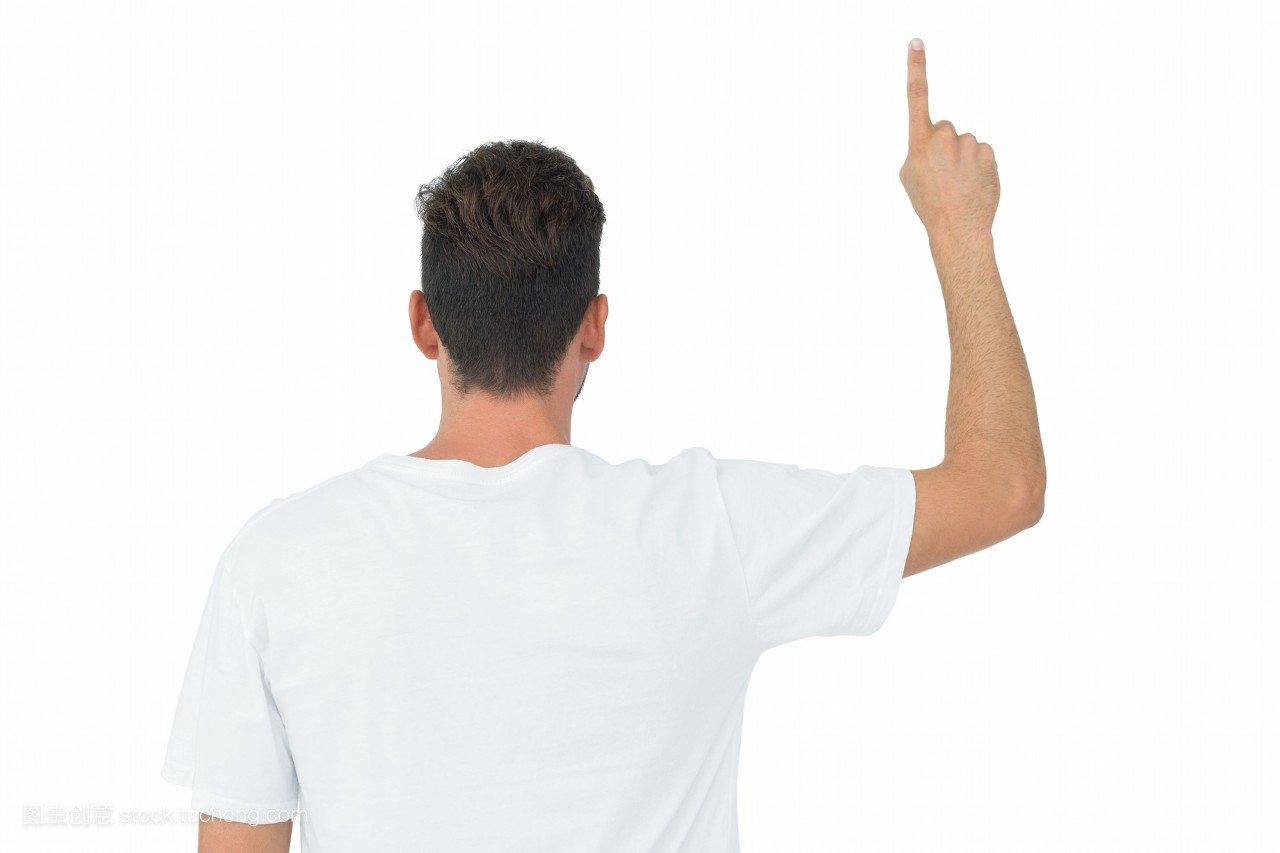handsup: (153, 32, 1063, 848)
